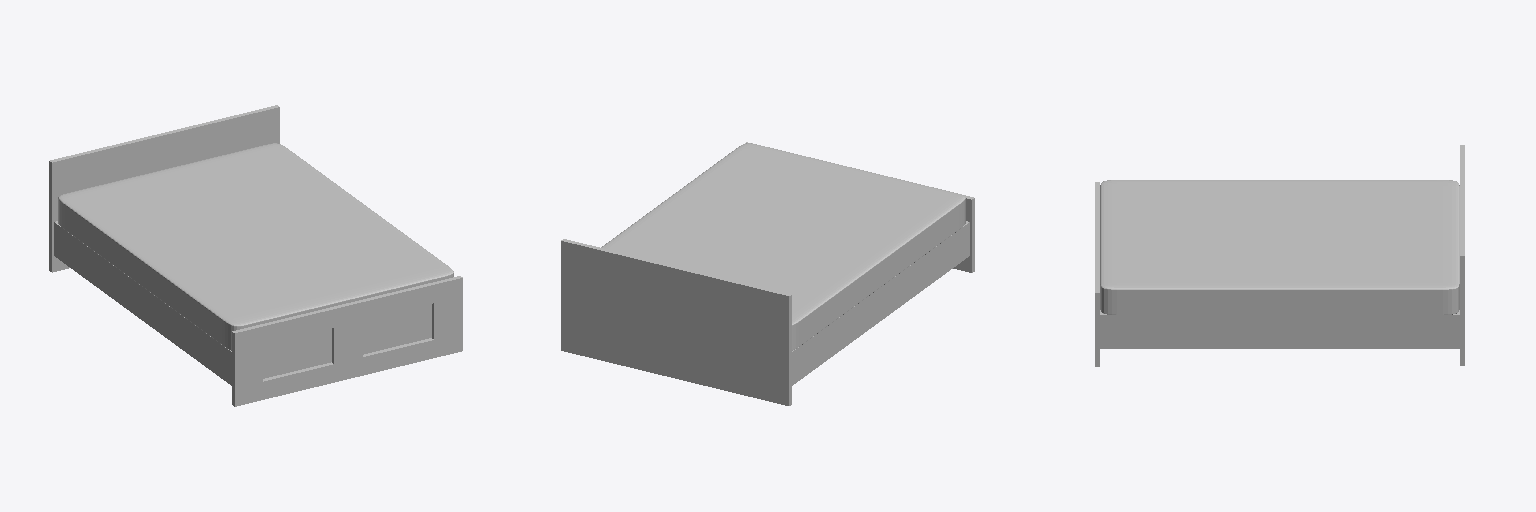
The model's file is BRIMNES.obj.
3 renders of one model, left to right at view 1: azimuth 30°, elevation 25°; view 2: azimuth 150°, elevation 25°; view 3: azimuth 270°, elevation 25°, orthographic.
Visible parts, largest first — view 1: Cube.003_Cube.004, Cube.001_Cube.002, Cube_Cube.001, Cube.002_Cube.003; view 2: Cube.003_Cube.004, Cube_Cube.001, Cube.002_Cube.003, Cube.001_Cube.002; view 3: Cube.003_Cube.004, Cube.002_Cube.003, Cube_Cube.001, Cube.001_Cube.002.
Part boxes in pixels (x1,y1,x2,y2): Cube.003_Cube.004: (58,143,453,350); Cube.001_Cube.002: (232,276,462,406); Cube_Cube.001: (49,105,279,272); Cube.002_Cube.003: (54,221,231,385); Cube.003_Cube.004: (601,143,965,350); Cube_Cube.001: (561,239,791,405); Cube.002_Cube.003: (792,221,969,385); Cube.001_Cube.002: (745,142,974,272); Cube.003_Cube.004: (1100,180,1459,314); Cube.002_Cube.003: (1100,310,1459,348); Cube_Cube.001: (1460,145,1464,365); Cube.001_Cube.002: (1095,182,1099,366).
Bounding box in the file's own units: 2.91 × 1.35 × 4.09.